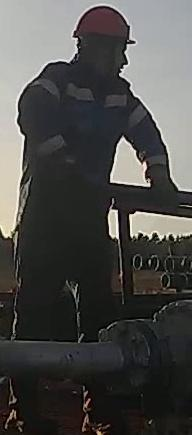gloves: (143, 161, 181, 214)
helmet: (71, 3, 136, 44)
vest: (14, 66, 151, 235)
